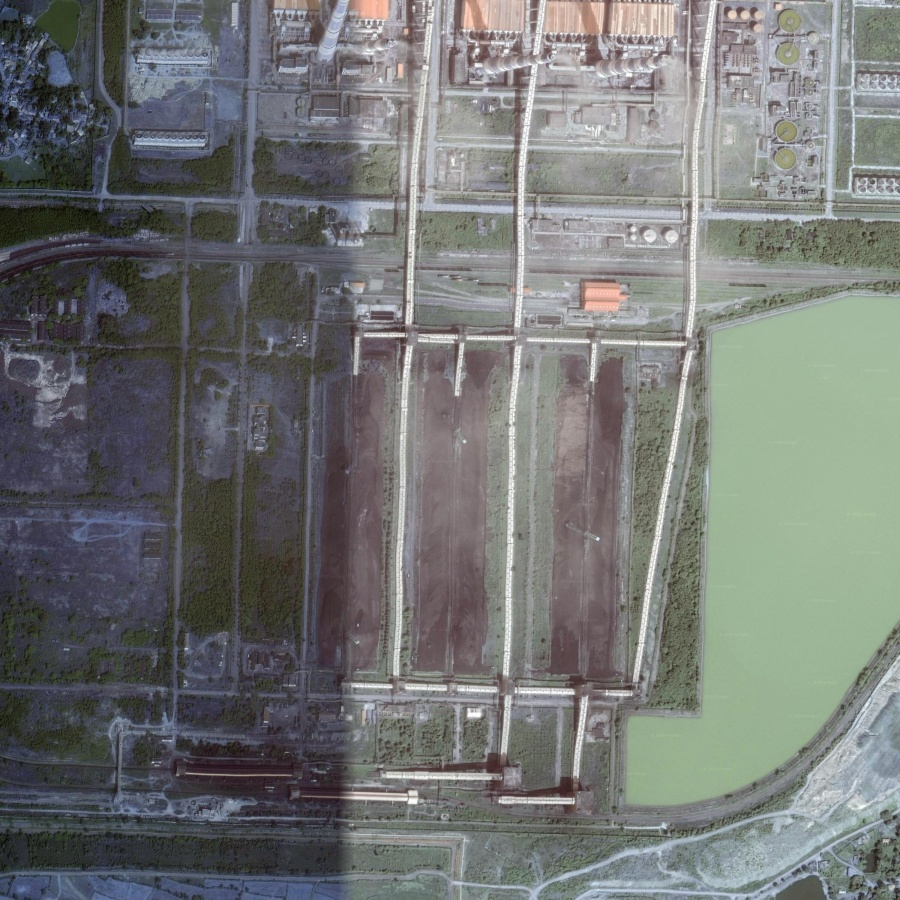PowerPlant: (307, 314, 666, 709)
